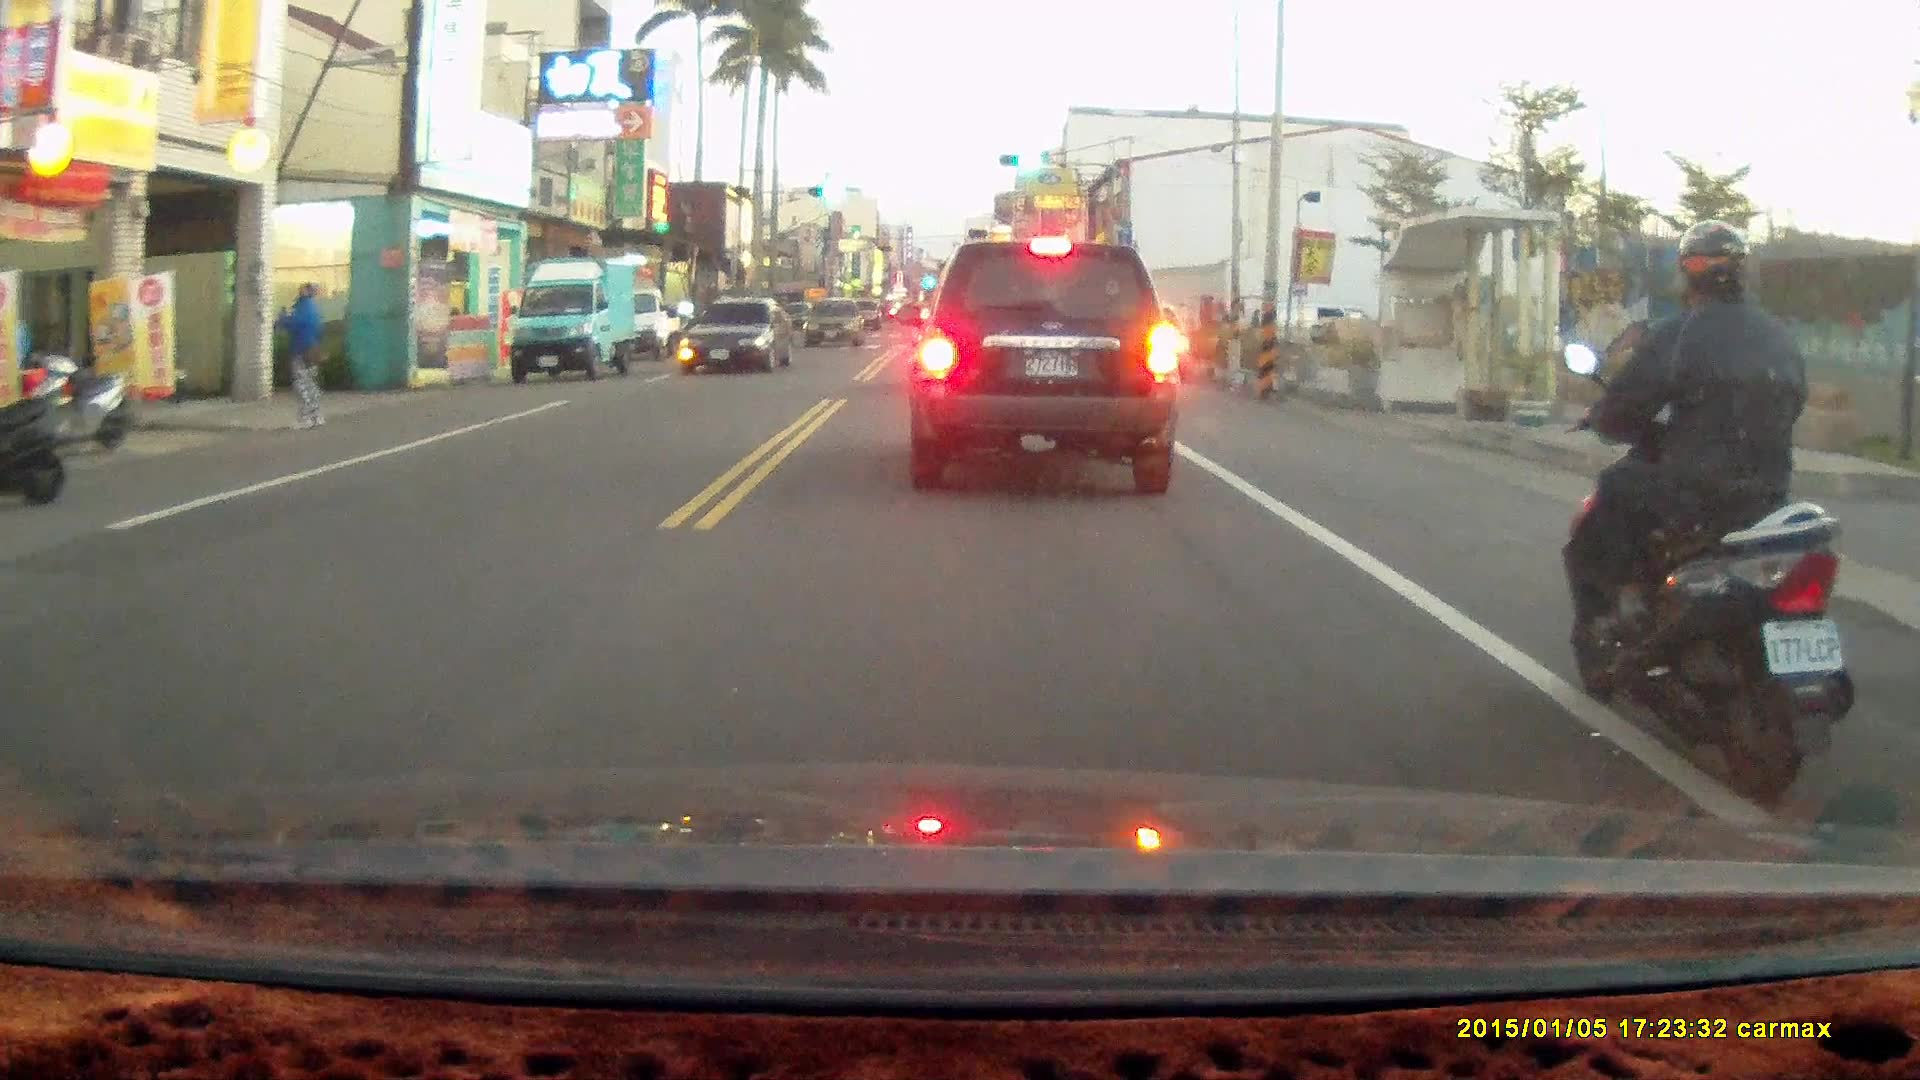pedestrian: (271, 277, 330, 431)
rider: (1559, 218, 1854, 806)
vehicle: (904, 235, 1184, 496), (511, 253, 642, 382), (677, 296, 797, 376), (803, 299, 867, 351)
